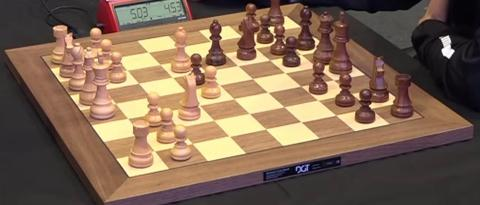xcorner: (206, 38, 212, 44), (175, 43, 181, 49), (144, 49, 150, 55), (112, 54, 118, 60), (281, 39, 287, 45), (219, 50, 225, 56), (188, 55, 194, 61), (156, 61, 162, 67), (123, 67, 129, 73), (296, 51, 302, 57), (233, 62, 239, 68), (201, 68, 207, 74), (168, 74, 174, 80), (135, 80, 141, 86), (101, 86, 107, 92), (248, 75, 254, 81), (215, 81, 221, 87), (147, 94, 153, 100), (112, 100, 118, 106), (329, 77, 335, 83), (297, 83, 303, 89), (263, 89, 269, 95), (195, 102, 201, 108), (347, 91, 353, 97), (314, 97, 320, 103), (280, 104, 286, 110), (210, 117, 216, 123), (174, 124, 180, 130), (366, 106, 372, 112), (297, 119, 303, 125), (225, 133, 231, 139), (151, 148, 157, 154), (237, 33, 242, 39), (80, 60, 85, 66), (251, 44, 256, 50), (90, 73, 96, 78), (265, 57, 271, 62), (312, 64, 318, 69), (281, 69, 286, 75), (181, 88, 187, 93), (160, 109, 166, 114), (125, 115, 130, 121), (245, 111, 251, 116), (138, 131, 143, 137), (332, 113, 338, 118), (262, 126, 267, 132), (189, 141, 194, 147), (267, 28, 272, 33), (230, 96, 235, 101)
